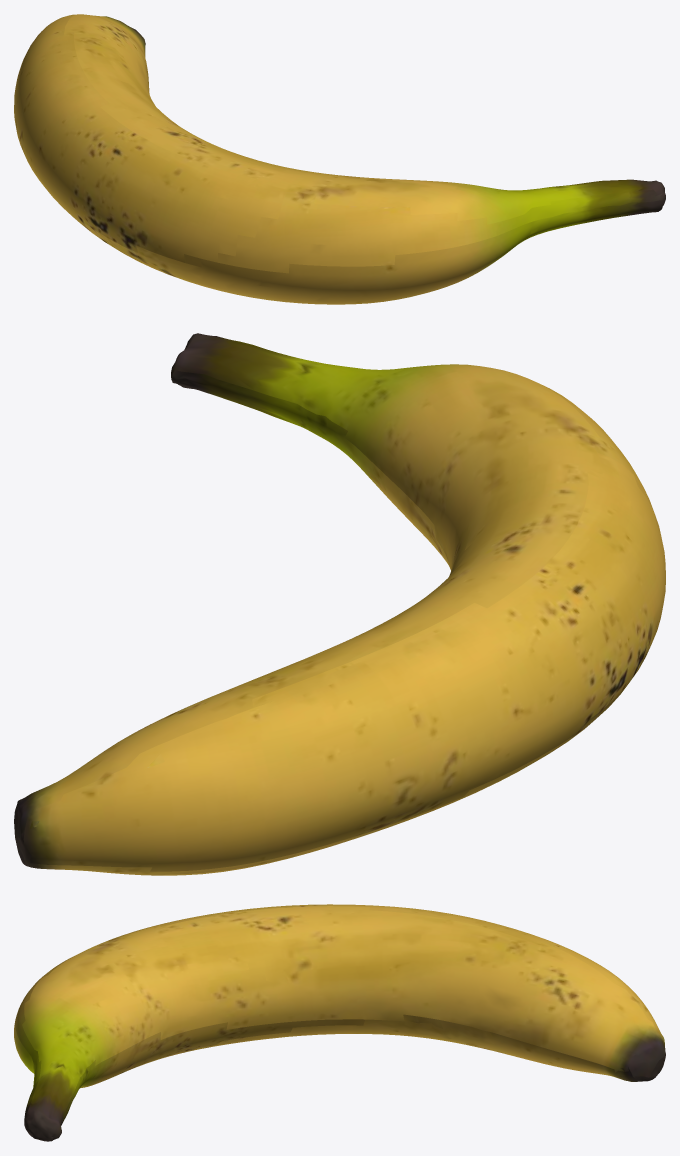
File: food_produce_banana_a01.glb
3 renders of one model, top to bottom at view 1: azimuth 30°, elevation 25°; view 2: azimuth 150°, elevation 25°; view 3: azimuth 270°, elevation 25°, orthographic. The views are drawn at different scales.
Parts seen in each view (by area): view 1: part0; view 2: part0; view 3: part0.
Part boxes in pixels (x1=…): part0: x1=14, y1=14, x2=665, y2=304; part0: x1=14, y1=333, x2=665, y2=875; part0: x1=14, y1=904, x2=665, y2=1141.
Size of the model in its own units: 0.116 by 0.0316 by 0.1622.
Materials: 1 (1 with a texture image).
